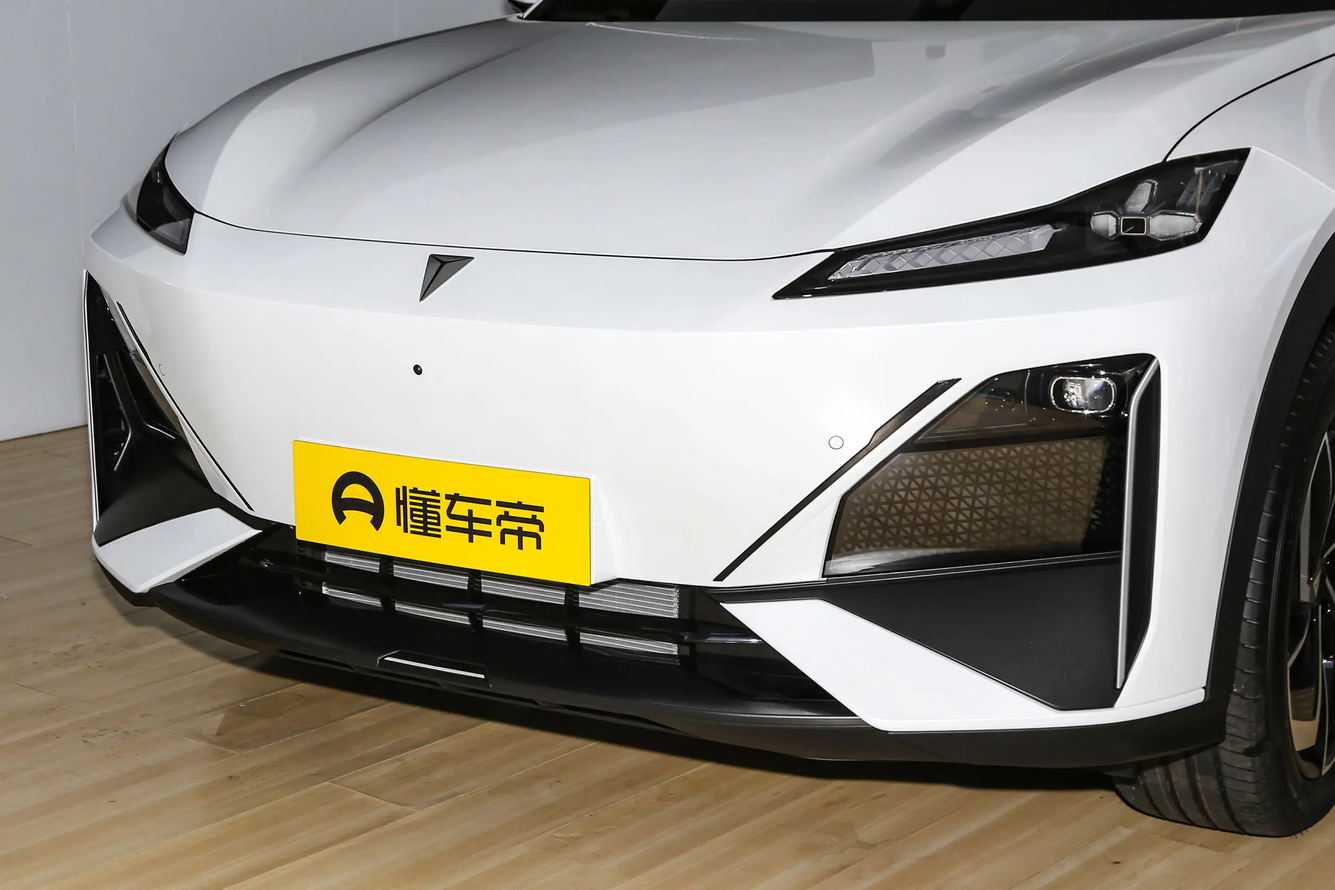Deepal: (419, 253, 474, 301)
